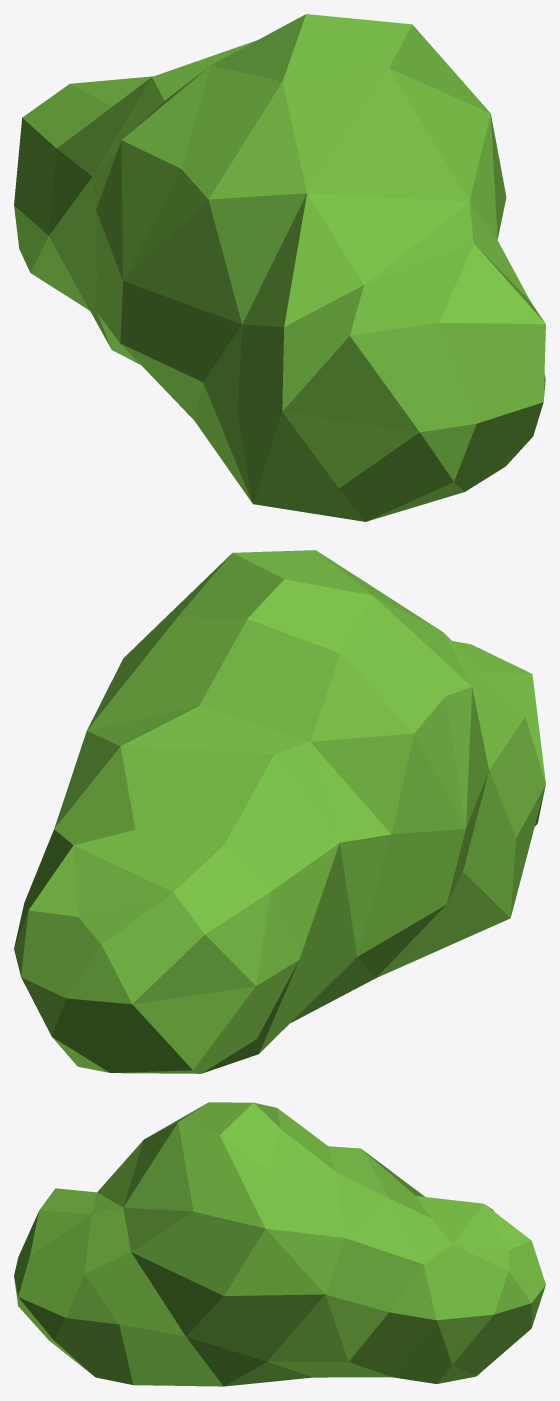
The model's file is BushLowPoly.fbx.
3 renders of one model, top to bottom at view 1: azimuth 30°, elevation 25°; view 2: azimuth 150°, elevation 25°; view 3: azimuth 270°, elevation 25°, orthographic. The views are drawn at different scales.
Parts seen in each view (by area): view 1: BushLowPoly; view 2: BushLowPoly; view 3: BushLowPoly.
Boxes of the visible parts, left/top/right/bottom form: BushLowPoly: left=14, top=14, right=545, bottom=521; BushLowPoly: left=14, top=550, right=545, bottom=1073; BushLowPoly: left=14, top=1102, right=545, bottom=1386.
Bounding box in the file's own units: 181 × 192 × 350.
